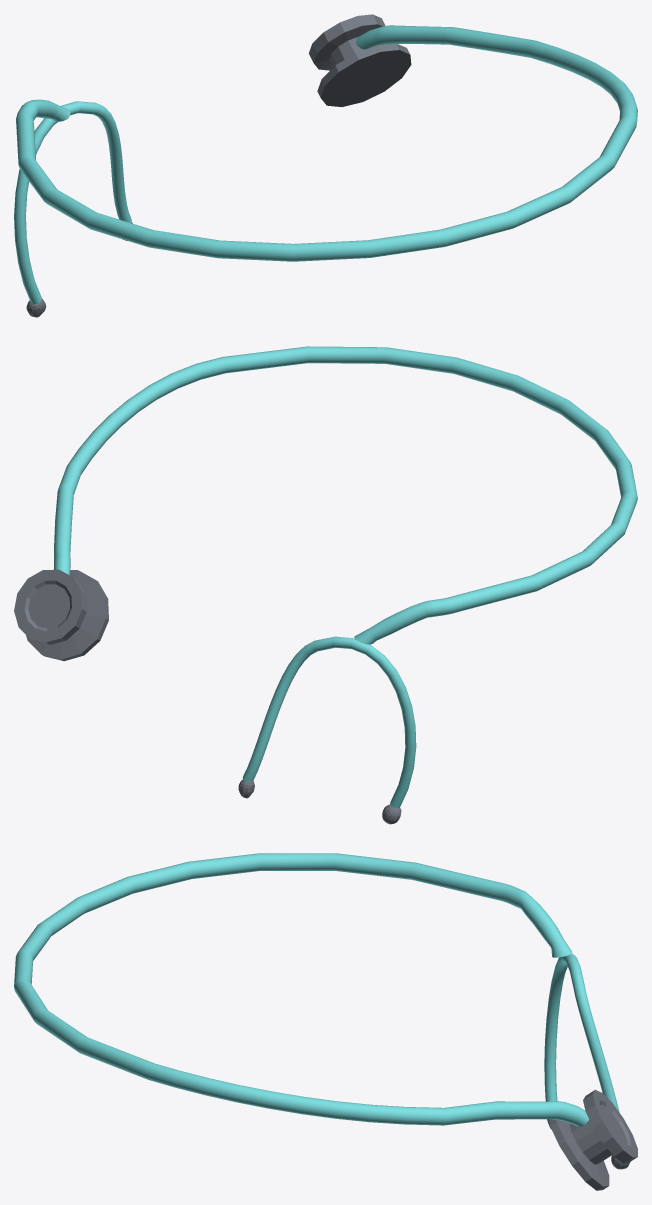
The model's file is doctor stethoscope.fbx.
3 renders of one model, top to bottom at view 1: azimuth 30°, elevation 25°; view 2: azimuth 150°, elevation 25°; view 3: azimuth 270°, elevation 25°, orthographic. The views are drawn at different scales.
Parts seen in each view (by area): view 1: cord, stethescope end, split; view 2: cord, stethescope end, split; view 3: cord, stethescope end, split.
Part boxes in pixels (left/top/right/bottom): cord: left=16, top=25, right=637, bottom=261; stethescope end: left=309, top=14, right=411, bottom=106; split: left=14, top=101, right=131, bottom=304; cord: left=53, top=346, right=637, bottom=644; stethescope end: left=14, top=569, right=108, bottom=661; split: left=242, top=636, right=416, bottom=808; cord: left=14, top=853, right=588, bottom=1126; stethescope end: left=548, top=1089, right=637, bottom=1190; split: left=544, top=953, right=619, bottom=1112.
Bounding box in the file's own units: 208 × 94.84 × 211.
